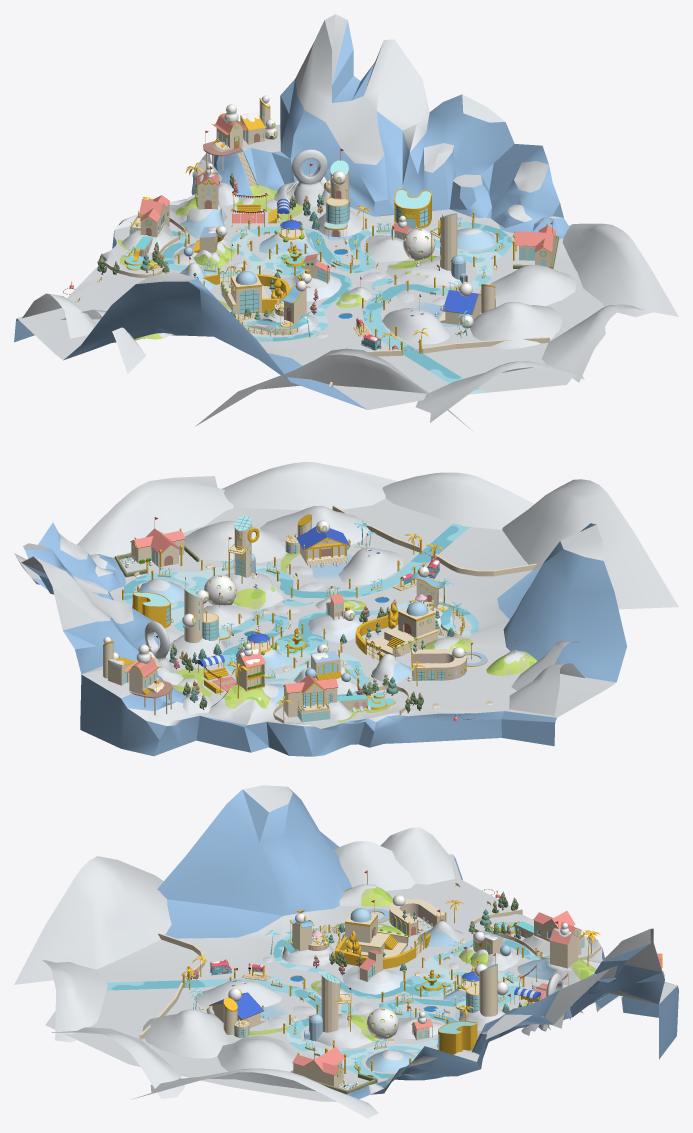
Rendered from Individual_BeverlyChills_03.fbx.
3 views of the same model, one above another, from view 1: azimuth 30°, elevation 25°; view 2: azimuth 150°, elevation 25°; view 3: azimuth 270°, elevation 25° (orthographic).
Visible parts, largest first — view 1: pasted__polySurface265, BEVERLYCHILLS_OBJECT_14, polySurface130, polySurface145, polySurface132, BEVERLYCHILLS_OBJECT_9, BEVERLYCHILLS_OBJECT_60, BEVERLYCHILLS_OBJECT_77, polySurface144, BEVERLYCHILLS_OBJECT_59, BEVERLYCHILLS_OBJECT_46, BEVERLYCHILLS_OBJECT_41 (+14 smaller); view 2: pasted__polySurface265, BEVERLYCHILLS_OBJECT_14, polySurface145, polySurface130, polySurface132, polySurface144, BEVERLYCHILLS_OBJECT_9, BEVERLYCHILLS_OBJECT_60, BEVERLYCHILLS_OBJECT_77, BEVERLYCHILLS_OBJECT_41, polySurface147, BEVERLYCHILLS_OBJECT_47 (+16 smaller); view 3: pasted__polySurface265, BEVERLYCHILLS_OBJECT_14, polySurface145, polySurface144, BEVERLYCHILLS_OBJECT_60, polySurface146, polySurface147, polySurface130, polySurface132, BEVERLYCHILLS_OBJECT_77, BEVERLYCHILLS_OBJECT_59, BEVERLYCHILLS_OBJECT_41 (+15 smaller).
Part boxes in pixels (left/top/right/bottom): pasted__polySurface265: left=14, top=14, right=605, bottom=409; BEVERLYCHILLS_OBJECT_14: left=179, top=228, right=576, bottom=349; polySurface130: left=562, top=223, right=678, bottom=317; polySurface145: left=195, top=348, right=472, bottom=430; polySurface132: left=541, top=304, right=644, bottom=382; BEVERLYCHILLS_OBJECT_9: left=122, top=195, right=172, bottom=270; BEVERLYCHILLS_OBJECT_60: left=203, top=266, right=289, bottom=314; BEVERLYCHILLS_OBJECT_77: left=317, top=160, right=362, bottom=238; polySurface144: left=415, top=361, right=584, bottom=422; BEVERLYCHILLS_OBJECT_59: left=243, top=276, right=317, bottom=334; BEVERLYCHILLS_OBJECT_46: left=274, top=149, right=330, bottom=207; BEVERLYCHILLS_OBJECT_41: left=438, top=283, right=495, bottom=328; pasted__polySurface265: left=14, top=498, right=626, bottom=756; BEVERLYCHILLS_OBJECT_14: left=139, top=506, right=473, bottom=683; polySurface145: left=502, top=479, right=678, bottom=609; polySurface130: left=77, top=476, right=233, bottom=557; polySurface132: left=222, top=462, right=397, bottom=509; polySurface144: left=382, top=472, right=534, bottom=529; BEVERLYCHILLS_OBJECT_9: left=283, top=674, right=395, bottom=722; BEVERLYCHILLS_OBJECT_60: left=355, top=601, right=438, bottom=660; BEVERLYCHILLS_OBJECT_77: left=169, top=588, right=230, bottom=659; BEVERLYCHILLS_OBJECT_41: left=285, top=514, right=350, bottom=566; polySurface147: left=509, top=663, right=584, bottom=715; BEVERLYCHILLS_OBJECT_47: left=410, top=647, right=487, bottom=680; pasted__polySurface265: left=45, top=785, right=678, bottom=1101; BEVERLYCHILLS_OBJECT_14: left=142, top=921, right=464, bottom=1072; polySurface145: left=14, top=856, right=171, bottom=984; polySurface144: left=42, top=960, right=107, bottom=1042; BEVERLYCHILLS_OBJECT_60: left=335, top=908, right=431, bottom=968; polySurface146: left=334, top=841, right=415, bottom=891; polySurface147: left=380, top=827, right=454, bottom=884; polySurface130: left=132, top=1068, right=378, bottom=1118; polySurface132: left=51, top=1027, right=184, bottom=1098; BEVERLYCHILLS_OBJECT_77: left=456, top=964, right=508, bottom=1030; BEVERLYCHILLS_OBJECT_59: left=282, top=909, right=337, bottom=966; BEVERLYCHILLS_OBJECT_41: left=206, top=988, right=266, bottom=1037.
Bounding box in the file's own units: 15357 × 4260 × 16473.
